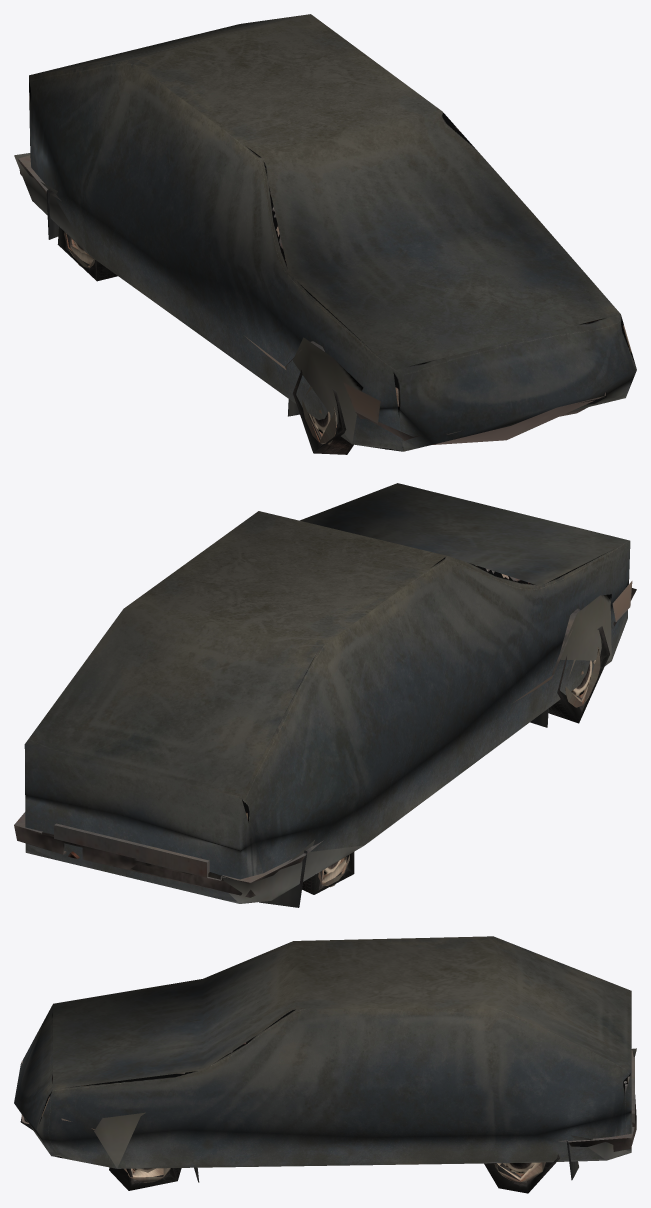
Rendered from covered_car.glb.
The picture shows the model from 3 angles, top to bottom: view 1: azimuth 30°, elevation 25°; view 2: azimuth 150°, elevation 25°; view 3: azimuth 270°, elevation 25°; orthographic projection. The views are drawn at different scales.
Visible parts, largest first — view 1: covered_car_wheel_01; view 2: covered_car_wheel_01; view 3: covered_car_wheel_01.
Part boxes in pixels (x1,y1,x2,y2): covered_car_wheel_01: (14,14,636,454); covered_car_wheel_01: (14,483,636,907); covered_car_wheel_01: (14,936,636,1193).
Bounding box in the file's own units: 1.75 × 1.33 × 4.3.
1 material, 1 textured.
